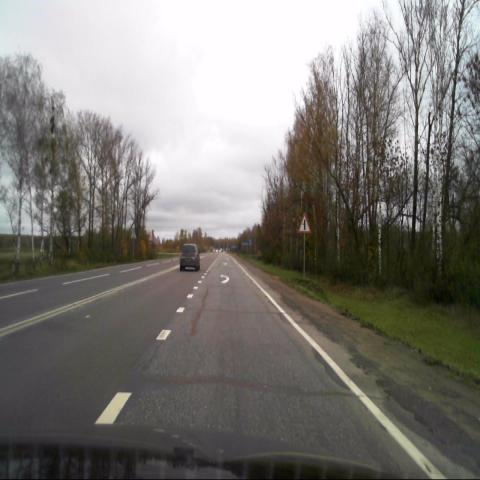2_3_3: (298, 213, 311, 232)
